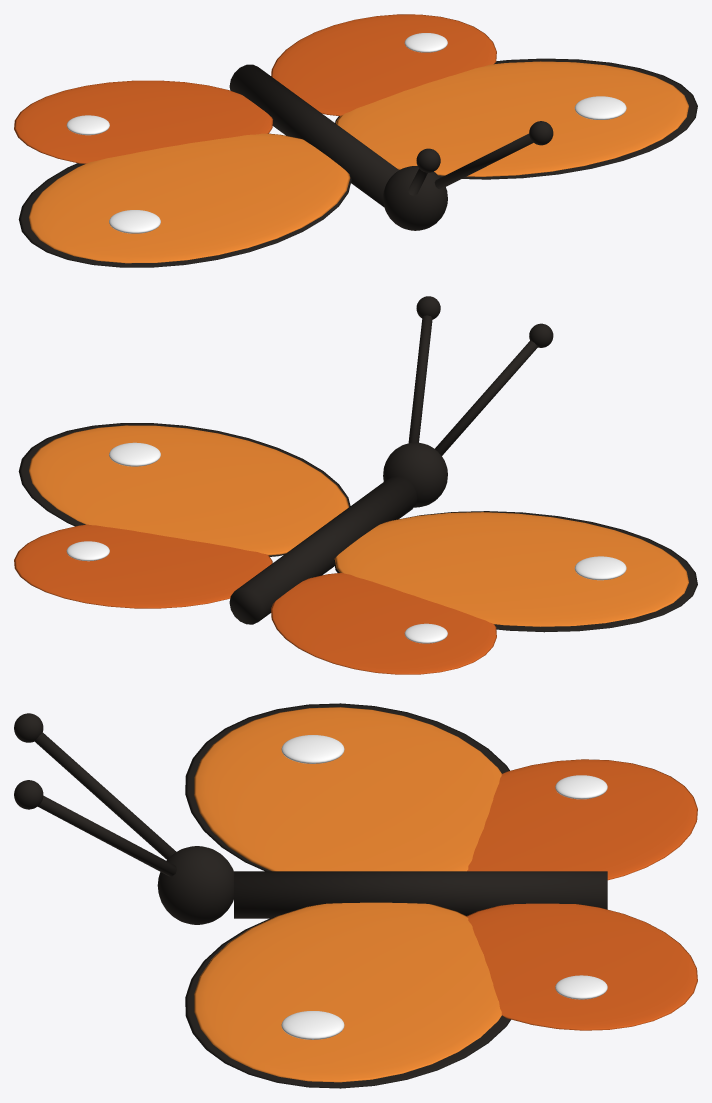
File: mariposa.glb
3 views of the same model, one above another, from view 1: azimuth 30°, elevation 25°; view 2: azimuth 150°, elevation 25°; view 3: azimuth 270°, elevation 25° (orthographic). The views are drawn at different scales.
Parts seen in each view (by area): view 1: ala_d, ala_i, Cylinder, Sphere, Cylinder.002, Sphere.001, Sphere.002; view 2: ala_d, ala_i, Cylinder, Sphere, Cylinder.001, Cylinder.002; view 3: ala_i, ala_d, Cylinder, Sphere, Cylinder.001, Cylinder.002, Sphere.002, Sphere.001.
Boxes of the visible parts, left/top/right/bottom form: ala_d: left=14, top=80, right=351, bottom=267; ala_i: left=271, top=14, right=697, bottom=179; Cylinder: left=229, top=64, right=398, bottom=206; Sphere: left=383, top=166, right=447, bottom=230; Cylinder.002: left=434, top=133, right=533, bottom=189; Sphere.001: left=416, top=148, right=440, bottom=172; Sphere.002: left=529, top=121, right=553, bottom=145; ala_d: left=271, top=511, right=697, bottom=674; ala_i: left=14, top=423, right=350, bottom=608; Cylinder: left=229, top=476, right=417, bottom=624; Sphere: left=383, top=442, right=447, bottom=507; Cylinder.001: left=435, top=340, right=537, bottom=455; Cylinder.002: left=408, top=315, right=432, bottom=443; ala_i: left=185, top=902, right=697, bottom=1088; ala_d: left=185, top=703, right=697, bottom=880; Cylinder: left=234, top=871, right=607, bottom=918; Sphere: left=157, top=846, right=234, bottom=924; Cylinder.001: left=34, top=732, right=176, bottom=859; Cylinder.002: left=38, top=795, right=176, bottom=876; Sphere.002: left=14, top=780, right=43, bottom=809; Sphere.001: left=14, top=713, right=43, bottom=742.
Size of the model in its own units: 1.73 by 0.363 by 1.3.
